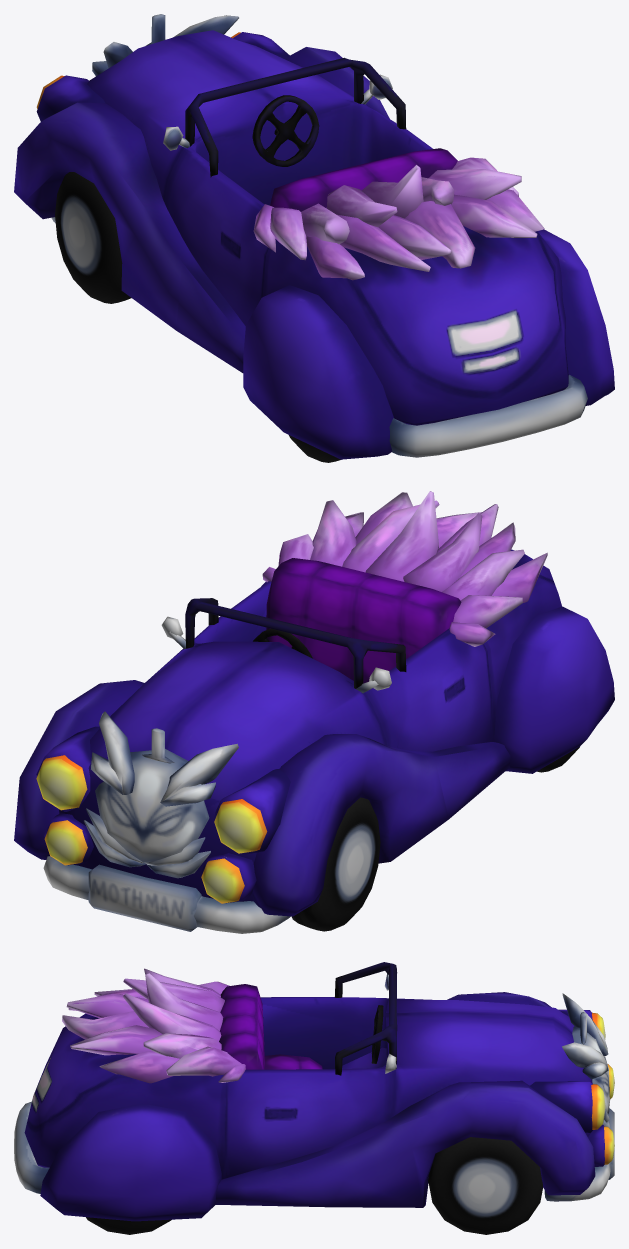
File: Mothman_Mobile 1.fbx
3 renders of one model, top to bottom at view 1: azimuth 30°, elevation 25°; view 2: azimuth 150°, elevation 25°; view 3: azimuth 270°, elevation 25°, orthographic. The views are drawn at different scales.
Parts seen in each view (by area): view 1: Plane.021; view 2: Plane.021; view 3: Plane.021.
Boxes of the visible parts, box(x1,y1,x2,y2) form: Plane.021: box(14, 14, 614, 462); Plane.021: box(14, 491, 614, 933); Plane.021: box(14, 962, 614, 1234).
Bounding box in the file's own units: 2305 × 1135 × 890.
Materials: 1 (1 with a texture image).
